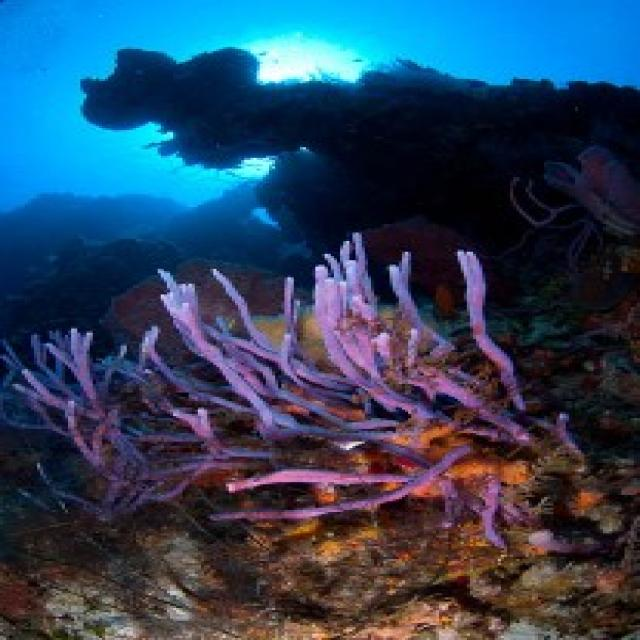Coral: (0, 231, 588, 552)
